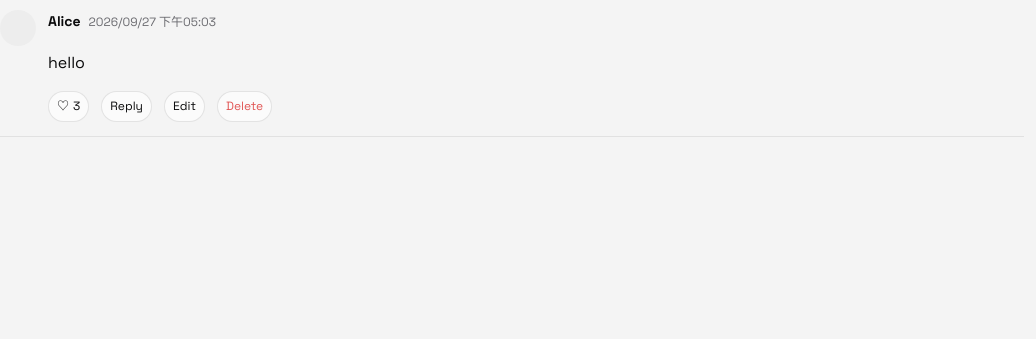
it: CommentItem (Stage B) › click reply button → 顯示 reply form; cancel → 隱藏
Step 1. Click the button with test id "comment-reply-btn" → (127, 107), box [101,91,152,122]
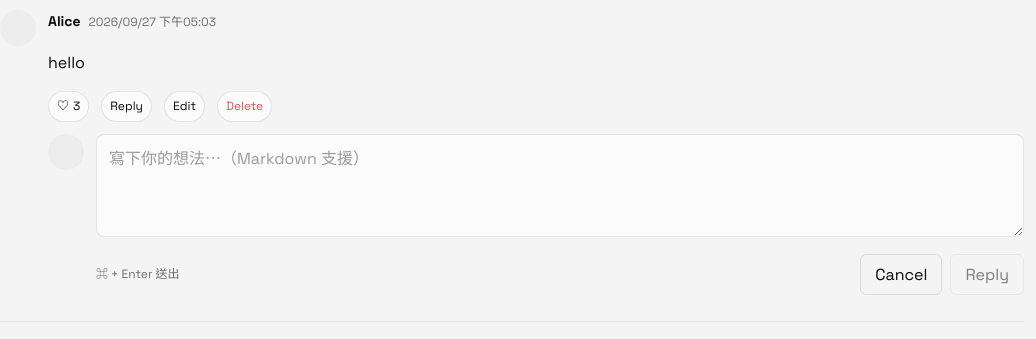
Result: the form with test id "comment-reply-form" is shown at [48,122,1024,307]
